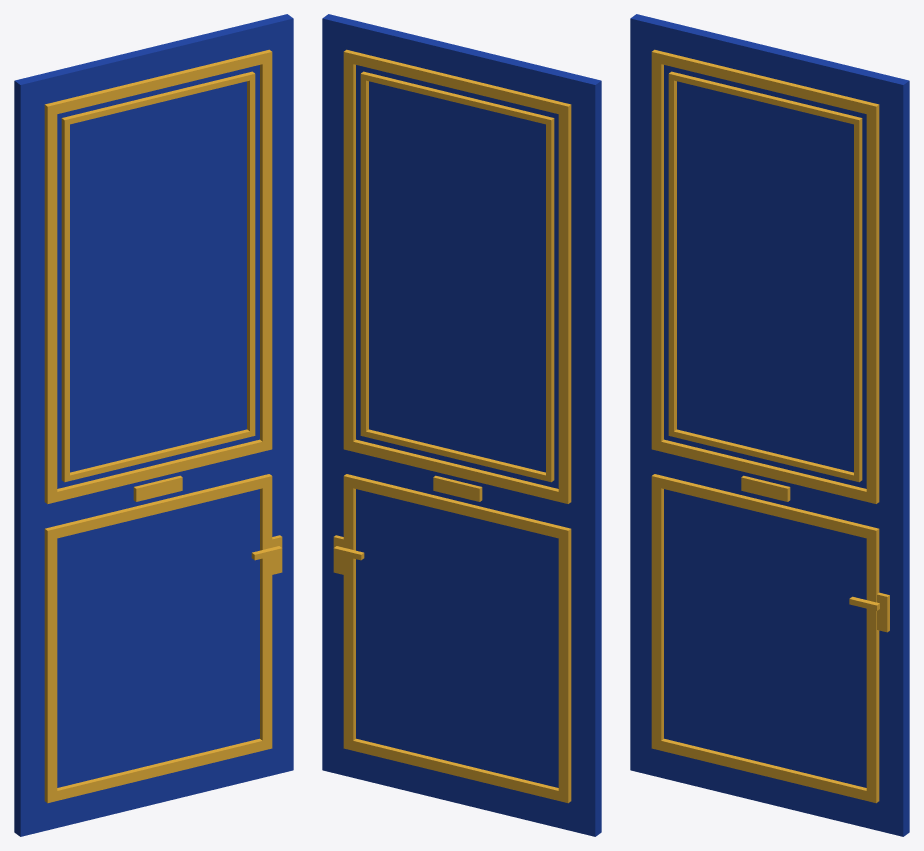
File: SM_Door_obelisk_130x340.fbx
3 renders of one model, left to right at view 1: azimuth 30°, elevation 25°; view 2: azimuth 150°, elevation 25°; view 3: azimuth 330°, elevation 25°, orthographic.
Visible parts, largest first — view 1: SM_Door_obelisk_130x340; view 2: SM_Door_obelisk_130x340; view 3: SM_Door_obelisk_130x340.
Boxes of the visible parts, x1,y1,x2,y2 form: SM_Door_obelisk_130x340: (14,14,293,836); SM_Door_obelisk_130x340: (322,14,601,836); SM_Door_obelisk_130x340: (630,14,909,836).
Size of the model in its own units: 1.29 by 3.39 by 0.175.
